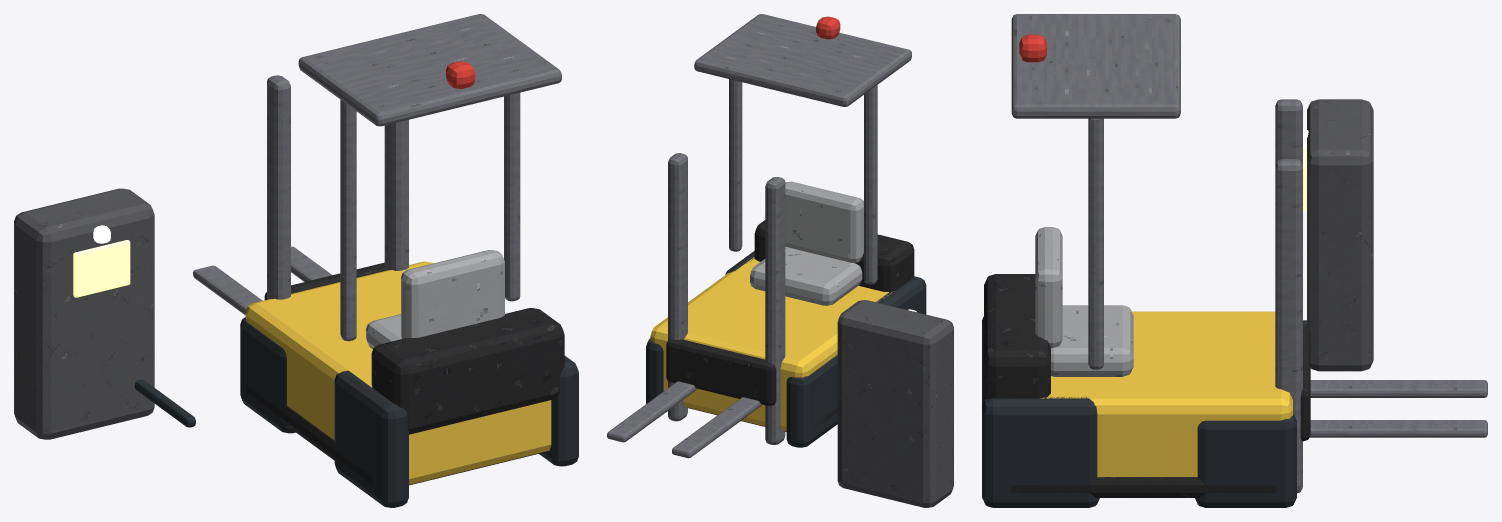
Rendered from decor_cargo_forklift_bay.glb.
3 renders of one model, left to right at view 1: azimuth 30°, elevation 25°; view 2: azimuth 150°, elevation 25°; view 3: azimuth 270°, elevation 25°, orthographic. The views are drawn at different scales.
Parts seen in each view (by area): view 1: DEC_CargoForkliftBay__Charger_Body, DEC_CargoForkliftBay__Chassis, DEC_CargoForkliftBay__Counterweight, DEC_CargoForkliftBay__Cab_Roof, DEC_CargoForkliftBay__Wheel_LA, DEC_CargoForkliftBay__Seat_Back, DEC_CargoForkliftBay__Mast_L, DEC_CargoForkliftBay__Cab_Post_L, DEC_CargoForkliftBay__Wheel_LB, DEC_CargoForkliftBay__Mast_R, DEC_CargoForkliftBay__Cab_Post_R, DEC_CargoForkliftBay__Charger_Screen (+8 smaller); view 2: DEC_CargoForkliftBay__Charger_Body, DEC_CargoForkliftBay__Chassis, DEC_CargoForkliftBay__Cab_Roof, DEC_CargoForkliftBay__Seat_Back, DEC_CargoForkliftBay__Carriage, DEC_CargoForkliftBay__Mast_L, DEC_CargoForkliftBay__Mast_R, DEC_CargoForkliftBay__Seat_Base, DEC_CargoForkliftBay__Wheel_LB, DEC_CargoForkliftBay__Cab_Post_L, DEC_CargoForkliftBay__Counterweight, DEC_CargoForkliftBay__Cab_Post_R (+5 smaller); view 3: DEC_CargoForkliftBay__Chassis, DEC_CargoForkliftBay__Charger_Body, DEC_CargoForkliftBay__Cab_Roof, DEC_CargoForkliftBay__Wheel_RA, DEC_CargoForkliftBay__Wheel_RB, DEC_CargoForkliftBay__Counterweight, DEC_CargoForkliftBay__Mast_R, DEC_CargoForkliftBay__Seat_Base, DEC_CargoForkliftBay__Cab_Post_R, DEC_CargoForkliftBay__Chassis_Skirt, DEC_CargoForkliftBay__Fork_L, DEC_CargoForkliftBay__Fork_R (+4 smaller).
Part boxes in pixels (<box>): DEC_CargoForkliftBay__Charger_Body: <box>14,188,154,439</box>; DEC_CargoForkliftBay__Chassis: <box>245,261,551,484</box>; DEC_CargoForkliftBay__Counterweight: <box>371,308,564,434</box>; DEC_CargoForkliftBay__Cab_Roof: <box>298,14,561,126</box>; DEC_CargoForkliftBay__Wheel_LA: <box>334,370,408,507</box>; DEC_CargoForkliftBay__Seat_Back: <box>401,250,504,338</box>; DEC_CargoForkliftBay__Mast_L: <box>267,75,290,299</box>; DEC_CargoForkliftBay__Cab_Post_L: <box>340,99,356,341</box>; DEC_CargoForkliftBay__Wheel_LB: <box>240,317,295,433</box>; DEC_CargoForkliftBay__Mast_R: <box>384,120,408,270</box>; DEC_CargoForkliftBay__Cab_Post_R: <box>504,92,520,301</box>; DEC_CargoForkliftBay__Charger_Screen: <box>73,240,130,297</box>; DEC_CargoForkliftBay__Charger_Body: <box>837,300,953,507</box>; DEC_CargoForkliftBay__Chassis: <box>650,257,891,431</box>; DEC_CargoForkliftBay__Cab_Roof: <box>694,14,911,106</box>; DEC_CargoForkliftBay__Seat_Back: <box>785,181,863,262</box>; DEC_CargoForkliftBay__Carriage: <box>666,339,776,405</box>; DEC_CargoForkliftBay__Mast_L: <box>765,177,785,444</box>; DEC_CargoForkliftBay__Mast_R: <box>668,153,687,421</box>; DEC_CargoForkliftBay__Seat_Base: <box>750,247,862,305</box>; DEC_CargoForkliftBay__Wheel_LB: <box>786,355,837,447</box>; DEC_CargoForkliftBay__Cab_Post_L: <box>864,85,877,284</box>; DEC_CargoForkliftBay__Counterweight: <box>754,220,914,292</box>; DEC_CargoForkliftBay__Cab_Post_R: <box>729,79,742,251</box>; DEC_CargoForkliftBay__Chassis: <box>1040,311,1292,476</box>; DEC_CargoForkliftBay__Charger_Body: <box>1307,99,1373,371</box>; DEC_CargoForkliftBay__Cab_Roof: <box>1011,14,1180,118</box>; DEC_CargoForkliftBay__Wheel_RA: <box>982,396,1099,507</box>; DEC_CargoForkliftBay__Wheel_RB: <box>1195,413,1296,507</box>; DEC_CargoForkliftBay__Counterweight: <box>984,274,1050,401</box>; DEC_CargoForkliftBay__Mast_R: <box>1275,159,1302,493</box>; DEC_CargoForkliftBay__Seat_Base: <box>1051,305,1133,376</box>; DEC_CargoForkliftBay__Cab_Post_R: <box>1088,118,1103,369</box>; DEC_CargoForkliftBay__Chassis_Skirt: <box>1011,477,1275,497</box>; DEC_CargoForkliftBay__Fork_L: <box>1310,380,1487,397</box>; DEC_CargoForkliftBay__Fork_R: <box>1309,420,1487,437</box>.
Size of the model in its own units: 2.36 by 2.38 by 2.57.
Materials: 9 (4 with a texture image).
